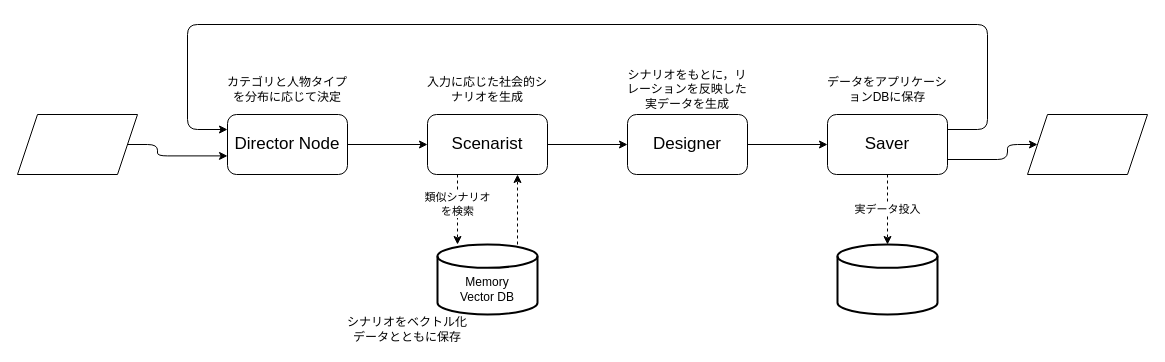
This 1165x362 diagram has some shape labels left out. Each missing label, with the centre of its shape:
App DB: point (887, 279)
END: point (1087, 144)
START: point (77, 144)
